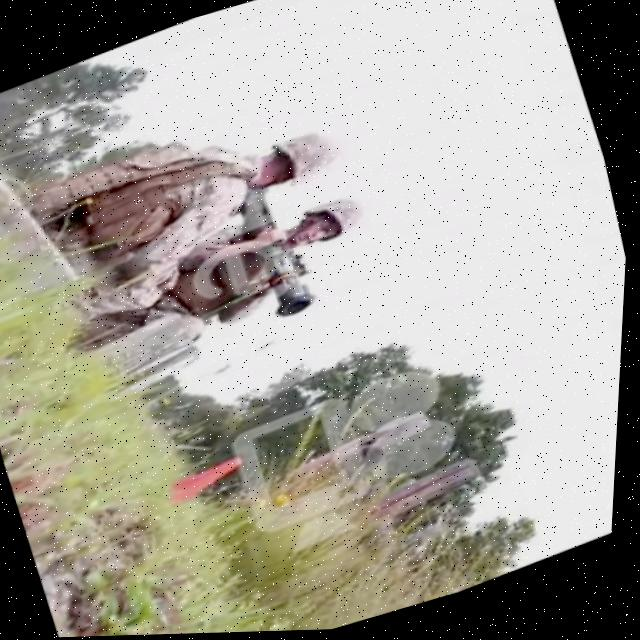rocket: (233, 179, 326, 324)
